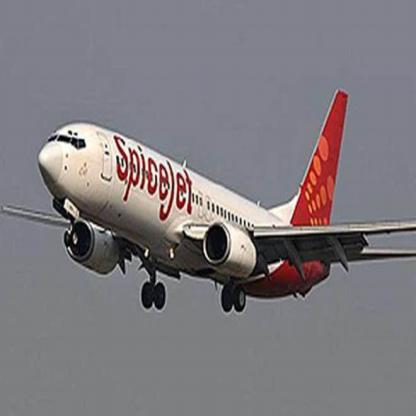CIV_Plane: (4, 85, 413, 340)
